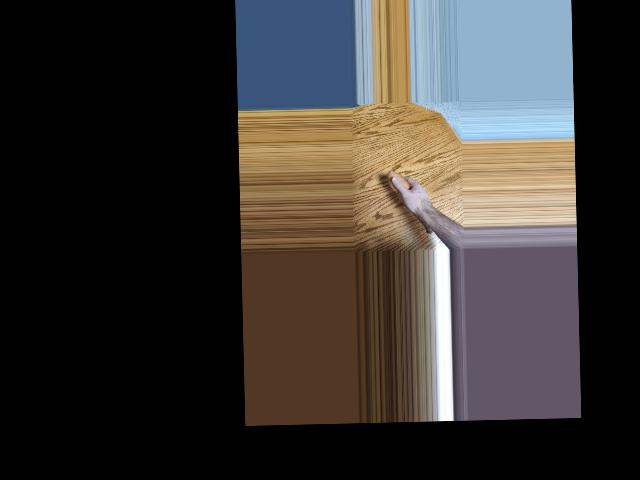sweet_potato: (386, 168, 432, 233)
